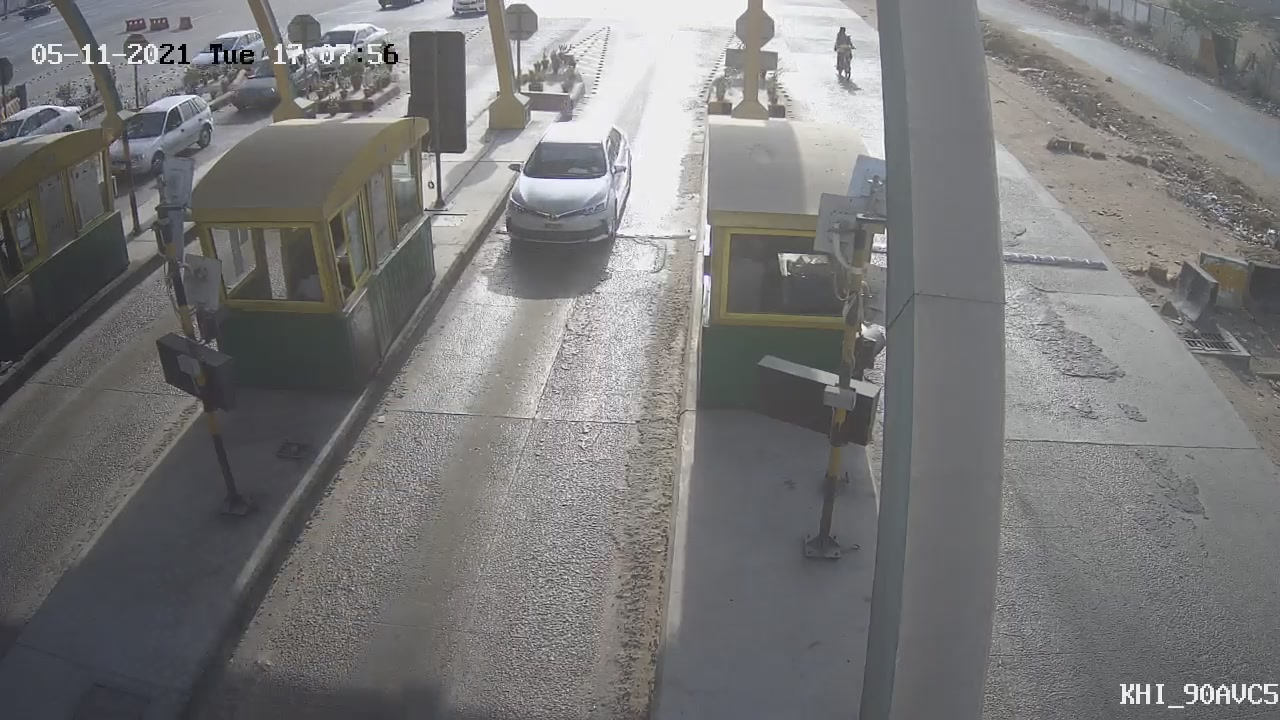F1: (482, 105, 652, 262)
